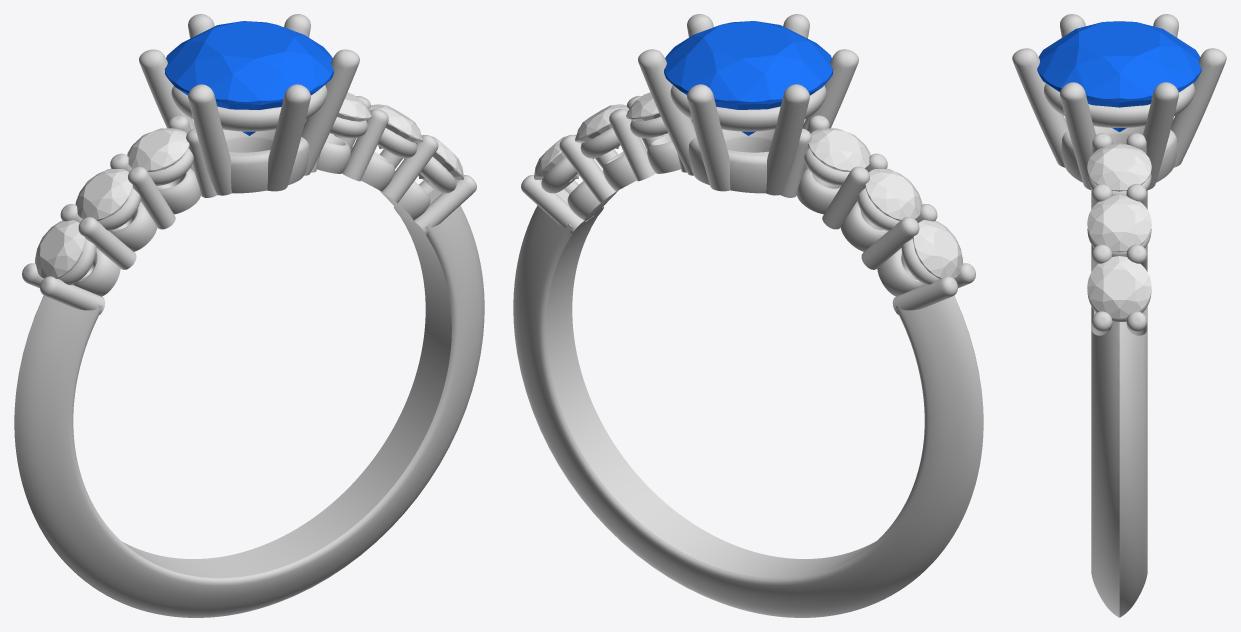
Rendered from bluesapphire-round-platinum-6prong-knifeedge-3stone.glb.
The picture shows the model from 3 angles, left to right: view 1: azimuth 30°, elevation 25°; view 2: azimuth 150°, elevation 25°; view 3: azimuth 270°, elevation 25°; orthographic projection. The views are drawn at different scales.
Visible parts, largest first — view 1: metal, stone, side.002, side.001, side, side.004, side.003, side.005; view 2: metal, stone, side.002, side.001, side, side.004, side.003, side.005; view 3: metal, stone, side.005, side.004, side.003.
Part boxes in pixels (x1=…): metal: x1=14, y1=14, x2=484, y2=617; stone: x1=164, y1=21, x2=333, y2=135; side.002: x1=35, y1=220, x2=85, y2=278; side.001: x1=75, y1=168, x2=132, y2=220; side: x1=127, y1=128, x2=189, y2=171; side.004: x1=368, y1=104, x2=422, y2=148; side.003: x1=337, y1=92, x2=371, y2=121; side.005: x1=418, y1=135, x2=463, y2=179; metal: x1=513, y1=14, x2=983, y2=617; stone: x1=664, y1=21, x2=833, y2=135; side.002: x1=912, y1=220, x2=962, y2=278; side.001: x1=865, y1=168, x2=922, y2=220; side: x1=808, y1=128, x2=870, y2=171; side.004: x1=575, y1=104, x2=629, y2=148; side.003: x1=626, y1=92, x2=660, y2=121; side.005: x1=534, y1=134, x2=579, y2=179; metal: x1=1012, y1=14, x2=1226, y2=617; stone: x1=1037, y1=21, x2=1201, y2=131; side.005: x1=1087, y1=256, x2=1151, y2=318; side.004: x1=1087, y1=195, x2=1151, y2=252; side.003: x1=1087, y1=143, x2=1151, y2=191.
Bounding box in the file's own units: 20.5 × 23.81 × 8.35.
